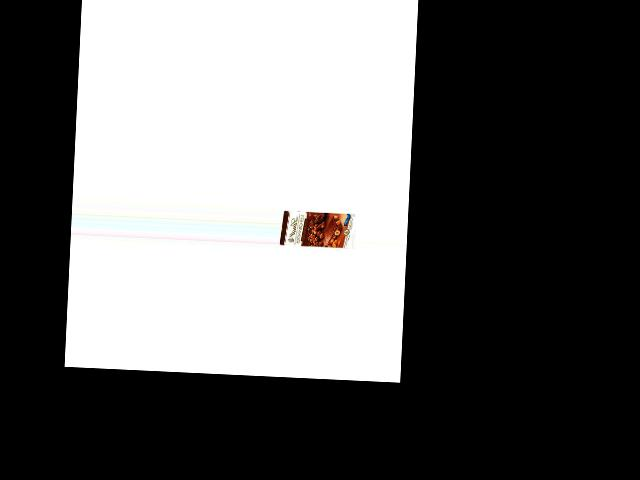chocolate: (282, 208, 351, 253)
